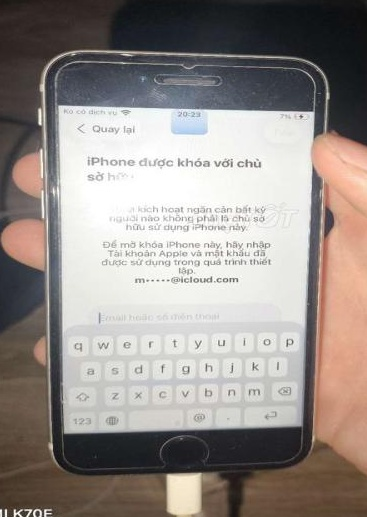scratch: (60, 46, 258, 65), (40, 114, 62, 212), (39, 74, 109, 101), (132, 84, 183, 107)
